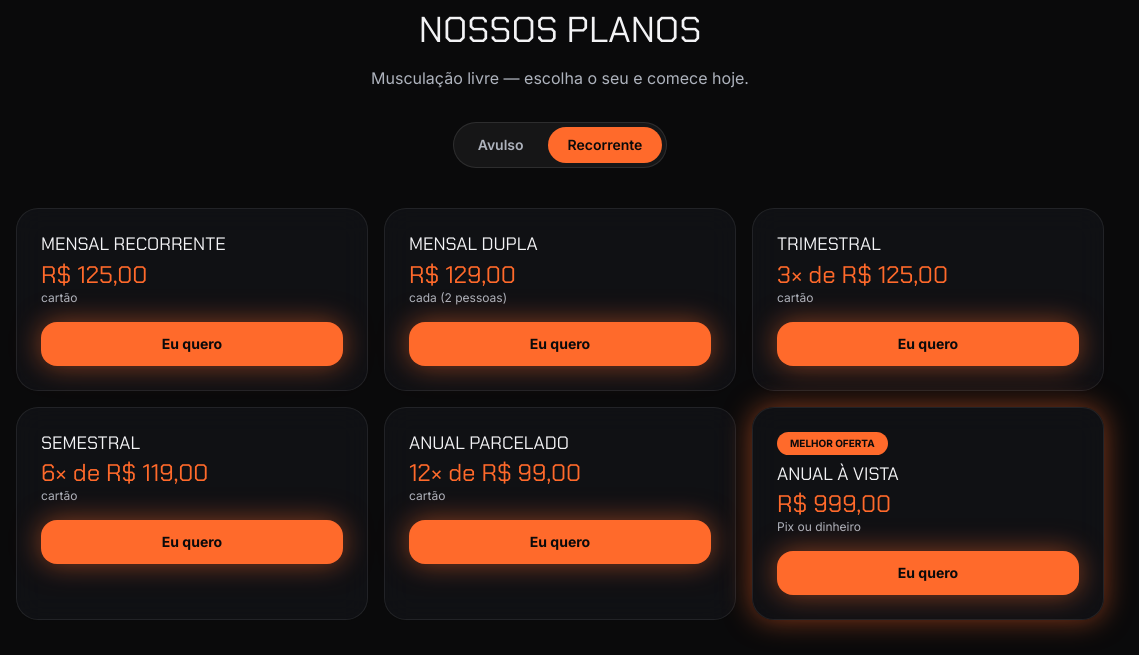
Scenario: Planos › toggling back to Recorrente restores the recorrente-only plans
Click the button "Avulso".
click(501, 145)  # box x1=458 y1=127 x2=544 y2=163
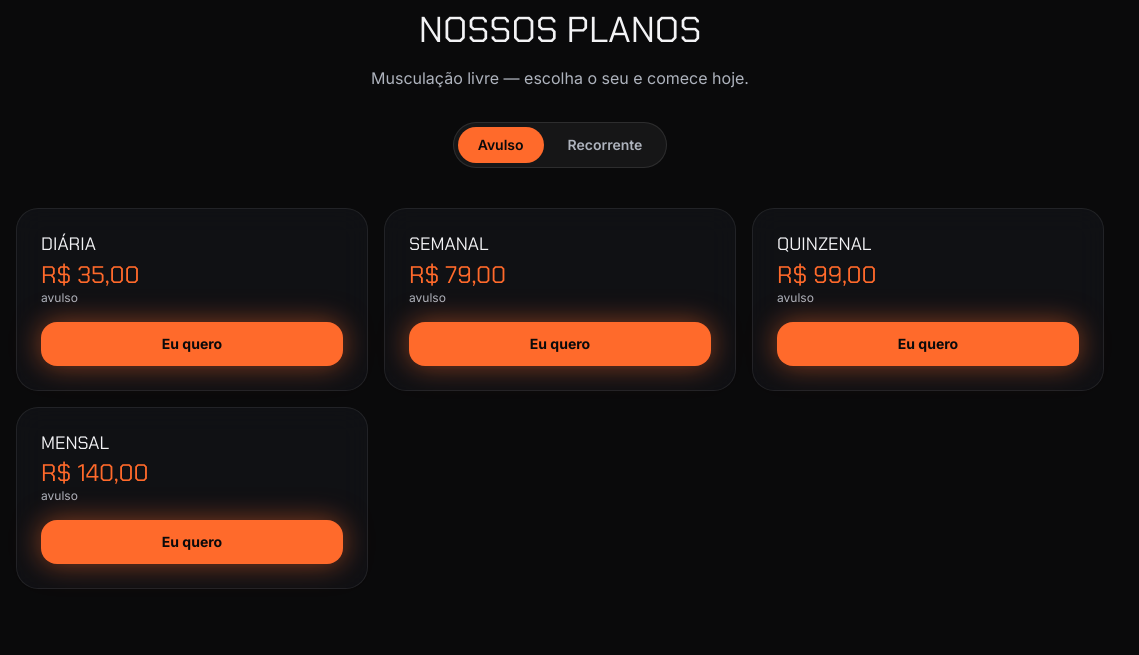
Check: the heading "Anual à Vista" is gone
Click the button "Recorrente".
click(605, 145)  # box x1=548 y1=127 x2=662 y2=163
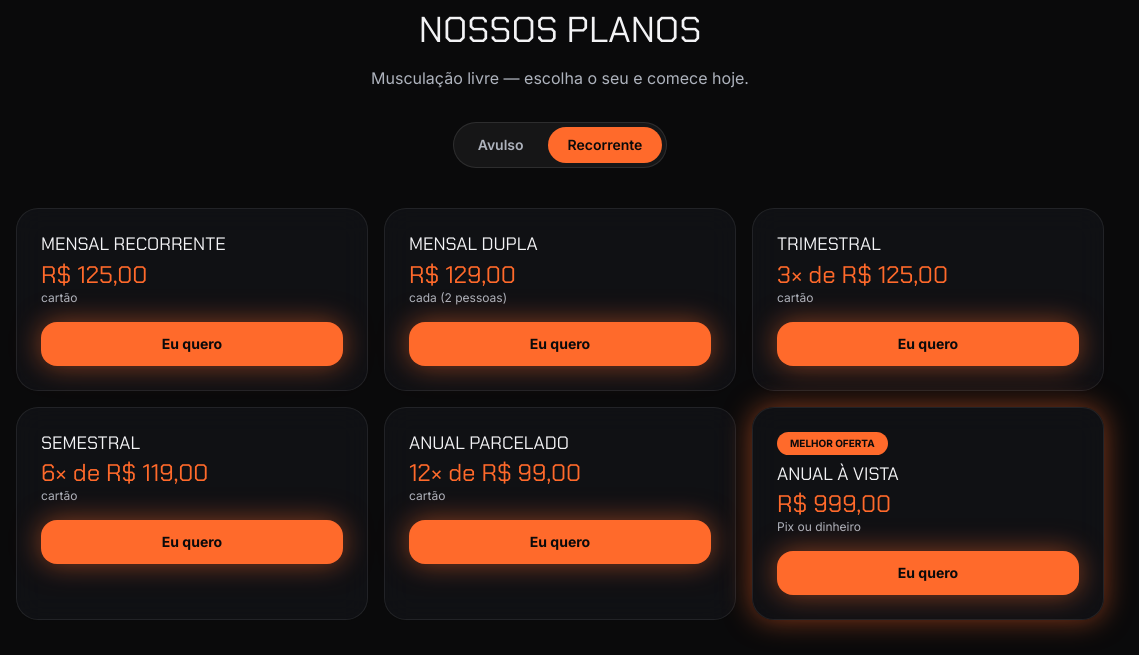
Check: the heading "Anual à Vista" is shown, box x1=777 y1=462 x2=899 y2=486
Check: the heading "Diária" is gone
